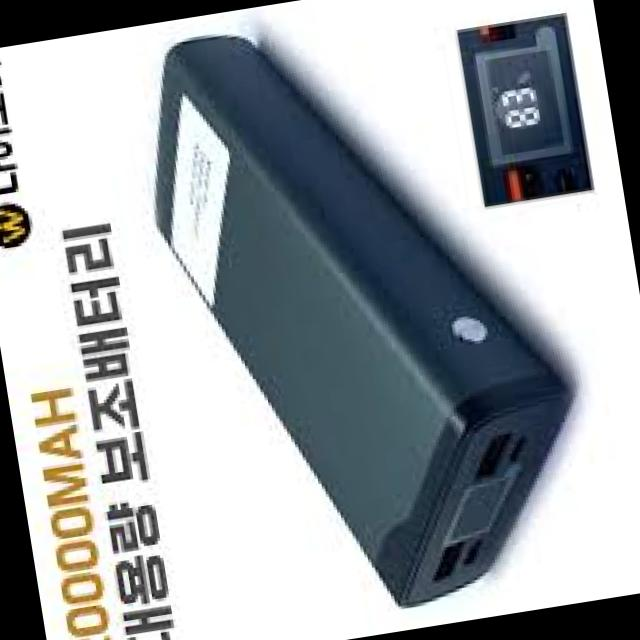portable-charger: (126, 0, 604, 637)
